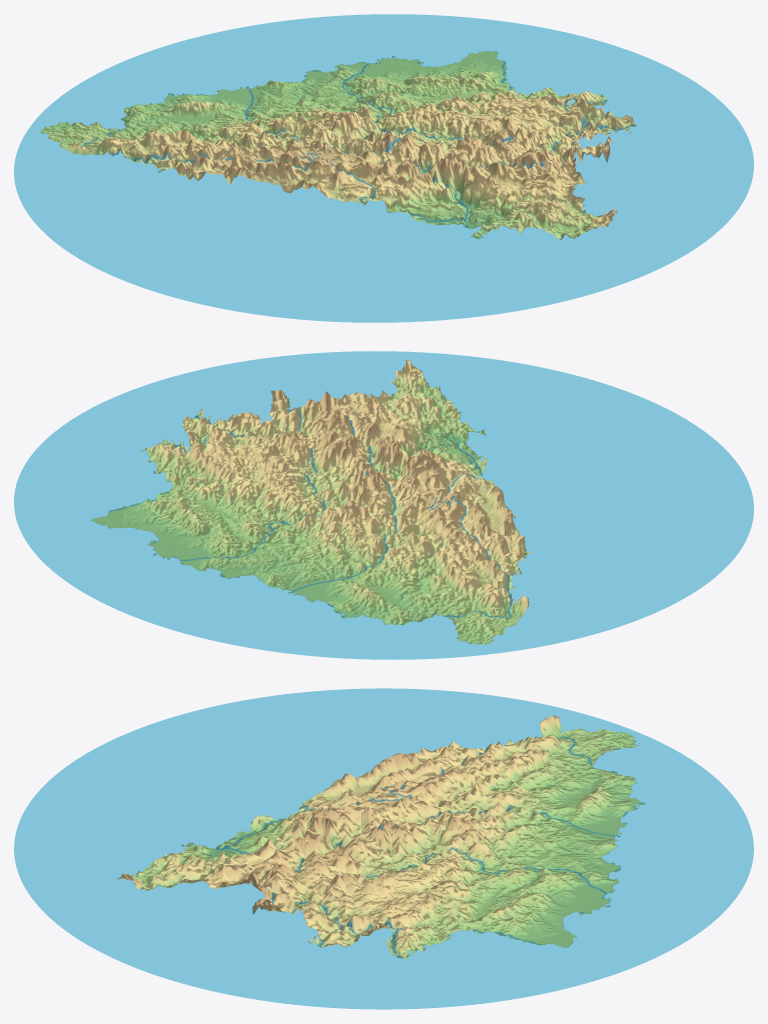
File: BIH-terrain.glb
3 renders of one model, top to bottom at view 1: azimuth 30°, elevation 25°; view 2: azimuth 150°, elevation 25°; view 3: azimuth 270°, elevation 25°, orthographic. The views are drawn at different scales.
Parts seen in each view (by area): view 1: Relevo com hidrografia; view 2: Relevo com hidrografia; view 3: Relevo com hidrografia.
Boxes of the visible parts, x1=… form: Relevo com hidrografia: x1=14, y1=14, x2=753, y2=322; Relevo com hidrografia: x1=14, y1=351, x2=753, y2=659; Relevo com hidrografia: x1=14, y1=688, x2=753, y2=1009.
Bounding box in the file's own units: 2.24 × 0.1255 × 2.18.
Materials: 2 (1 with a texture image).
